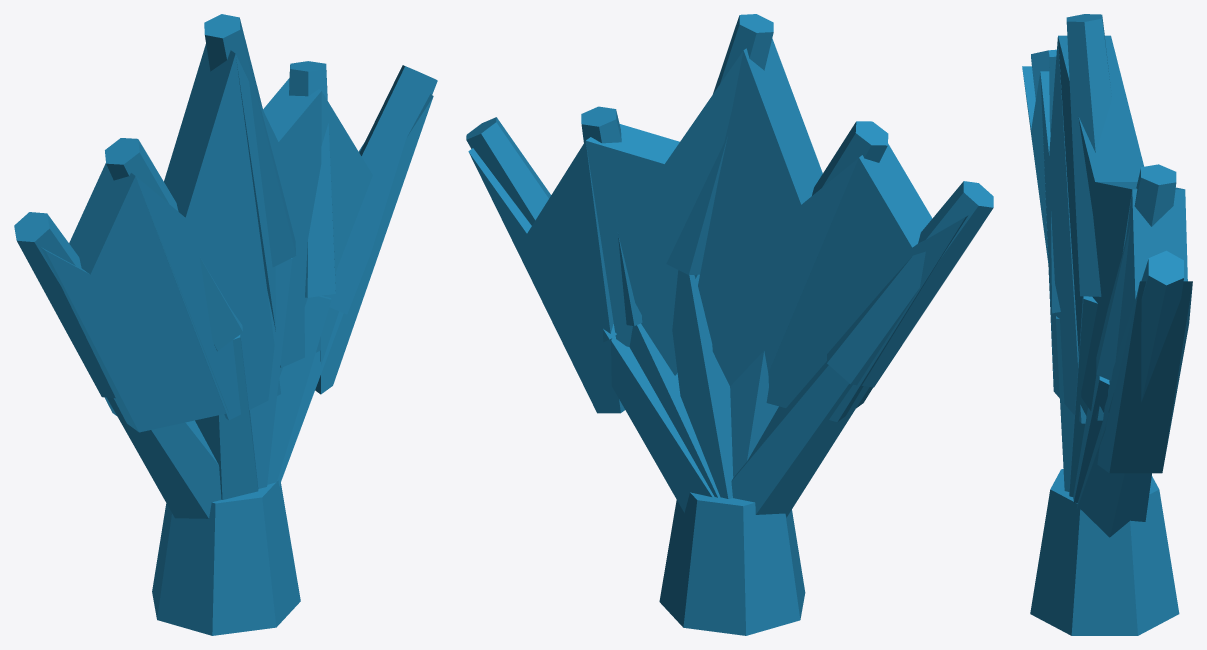
The model's file is coral_004c_fan.glb.
3 views of the same model, side by side, from view 1: azimuth 30°, elevation 25°; view 2: azimuth 150°, elevation 25°; view 3: azimuth 270°, elevation 25° (orthographic). The views are drawn at different scales.
Parts seen in each view (by area): view 1: coral_004c_fan__mesh; view 2: coral_004c_fan__mesh; view 3: coral_004c_fan__mesh.
Part boxes in pixels (x1=…): coral_004c_fan__mesh: x1=14, y1=14, x2=437, y2=635; coral_004c_fan__mesh: x1=466, y1=14, x2=993, y2=635; coral_004c_fan__mesh: x1=1022, y1=14, x2=1192, y2=635.
Bounding box in the file's own units: 0.7627 × 0.9027 × 0.238.
